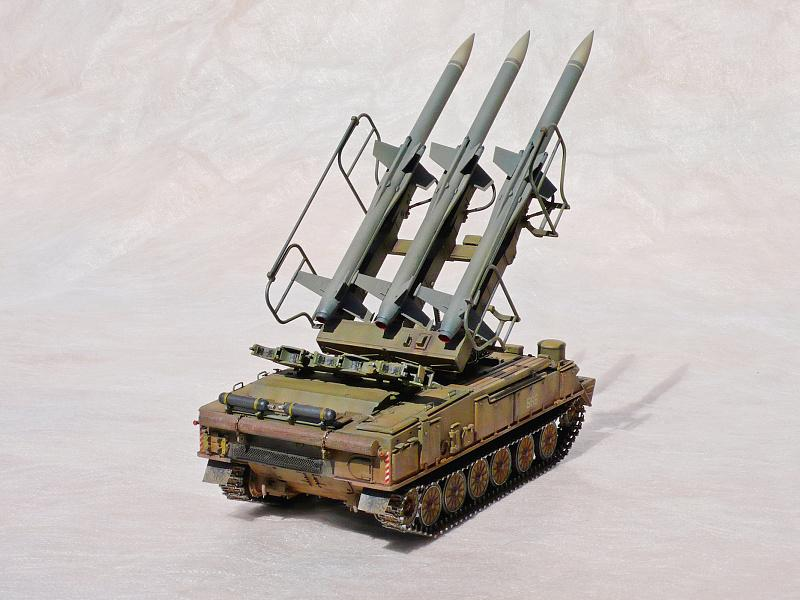armored_car: (187, 17, 600, 551)
